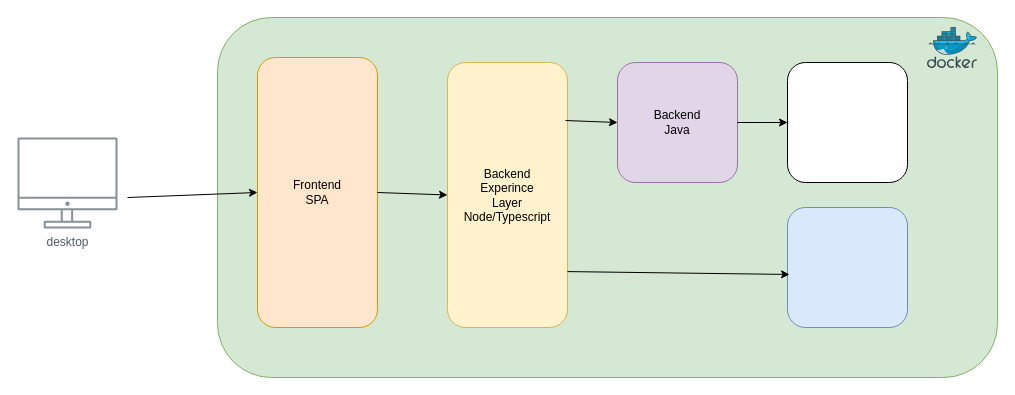
The diagram is 1015 pixels wide and 395 high, and some of its shapes have lost their labels. Here are the shapes that lost their labels. From the top down, the centre of each, then its label:
the point at 847,122: PostgreSQL DB
the point at 847,267: Dynamo DB
